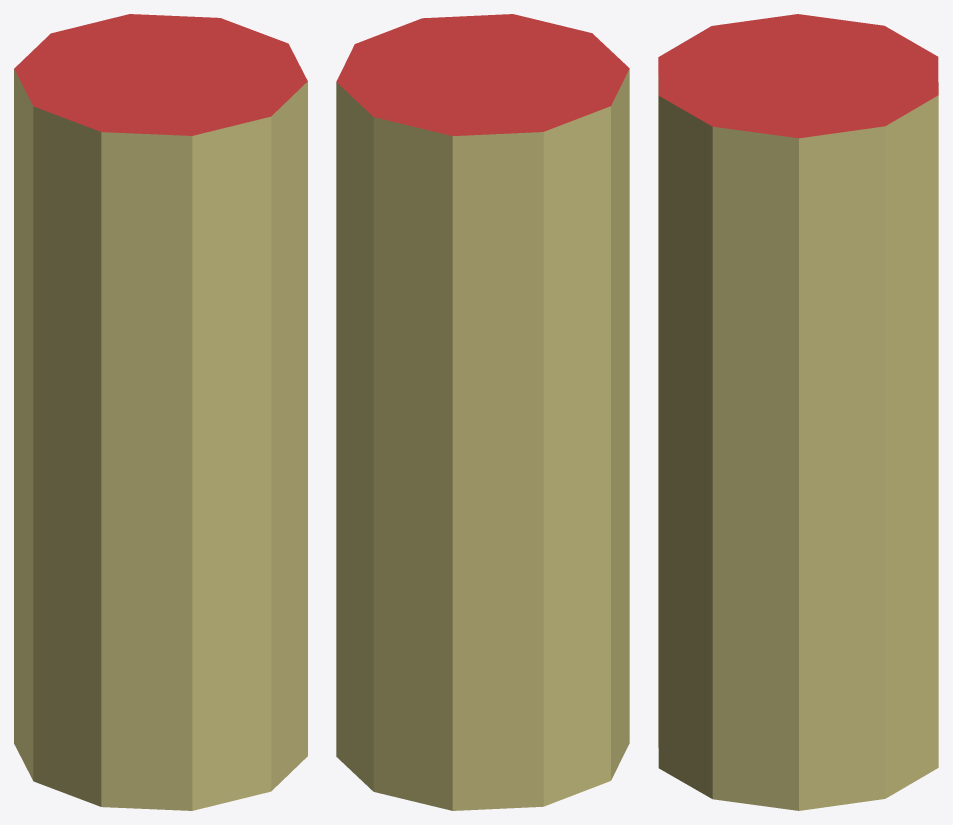
3 renders of one model, left to right at view 1: azimuth 30°, elevation 25°; view 2: azimuth 150°, elevation 25°; view 3: azimuth 270°, elevation 25°, orthographic.
Size of the model in its own units: 2.93 by 2.79 by 7.38.
